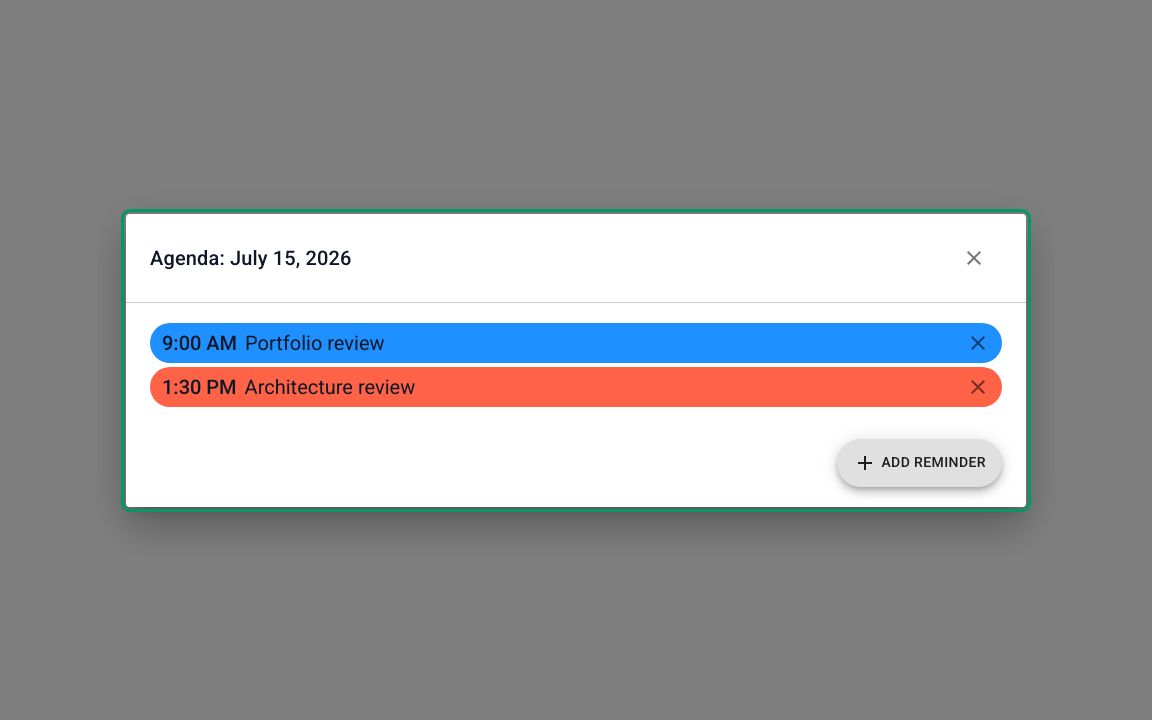
it: agenda reminder interactions › removes one reminder while preserving the remaining list semantics
The width and height of the screenshot is (1152, 720).
Click the button named "Delete reminder 9:00 AM Portfolio review" at (978, 342), box [962,326,994,358]
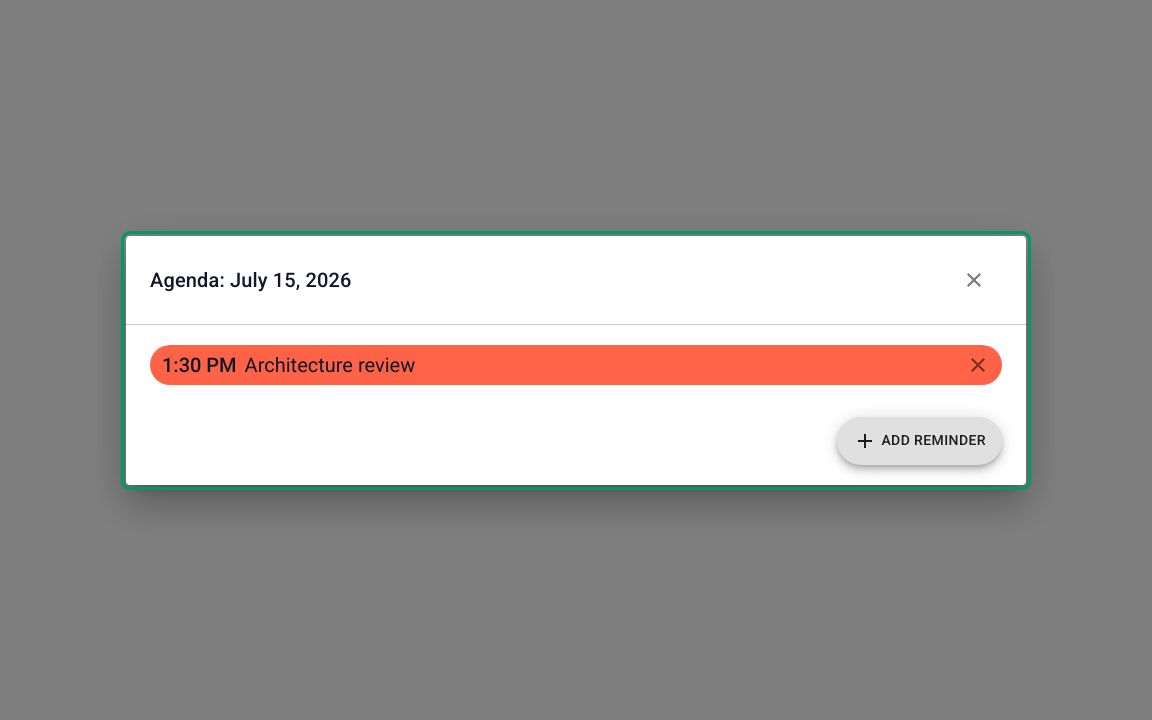
Expected: the text "Architecture review" is shown, [245,350,415,378]
Now the text "Portfolio review" is gone
Now the number of list items is 1, box [150,344,1002,384]
